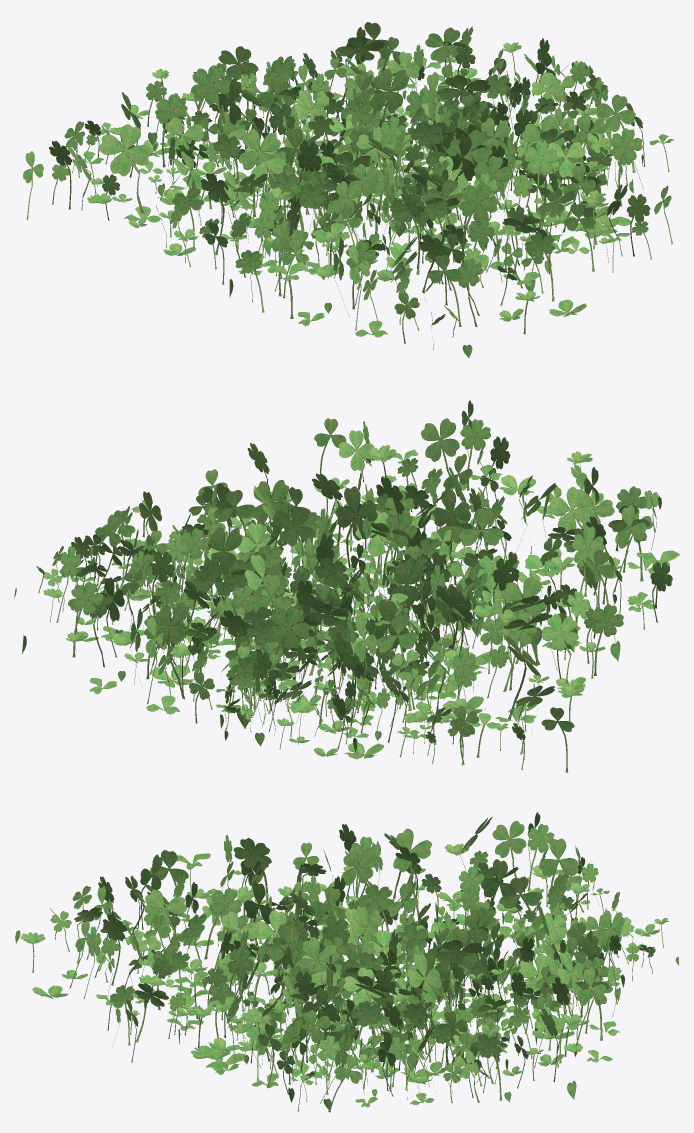
Rendered from LeafSetD_20.fbx.
3 renders of one model, top to bottom at view 1: azimuth 30°, elevation 25°; view 2: azimuth 150°, elevation 25°; view 3: azimuth 270°, elevation 25°, orthographic. The views are drawn at different scales.
Parts seen in each view (by area): view 1: LeafSetD_20; view 2: LeafSetD_20; view 3: LeafSetD_20.
Part boxes in pixels (x1,y1,x2,y2): LeafSetD_20: (23, 22, 673, 357); LeafSetD_20: (14, 400, 679, 772); LeafSetD_20: (15, 812, 678, 1112).
Bounding box in the file's own units: 2.9 × 0.7332 × 3.11.
